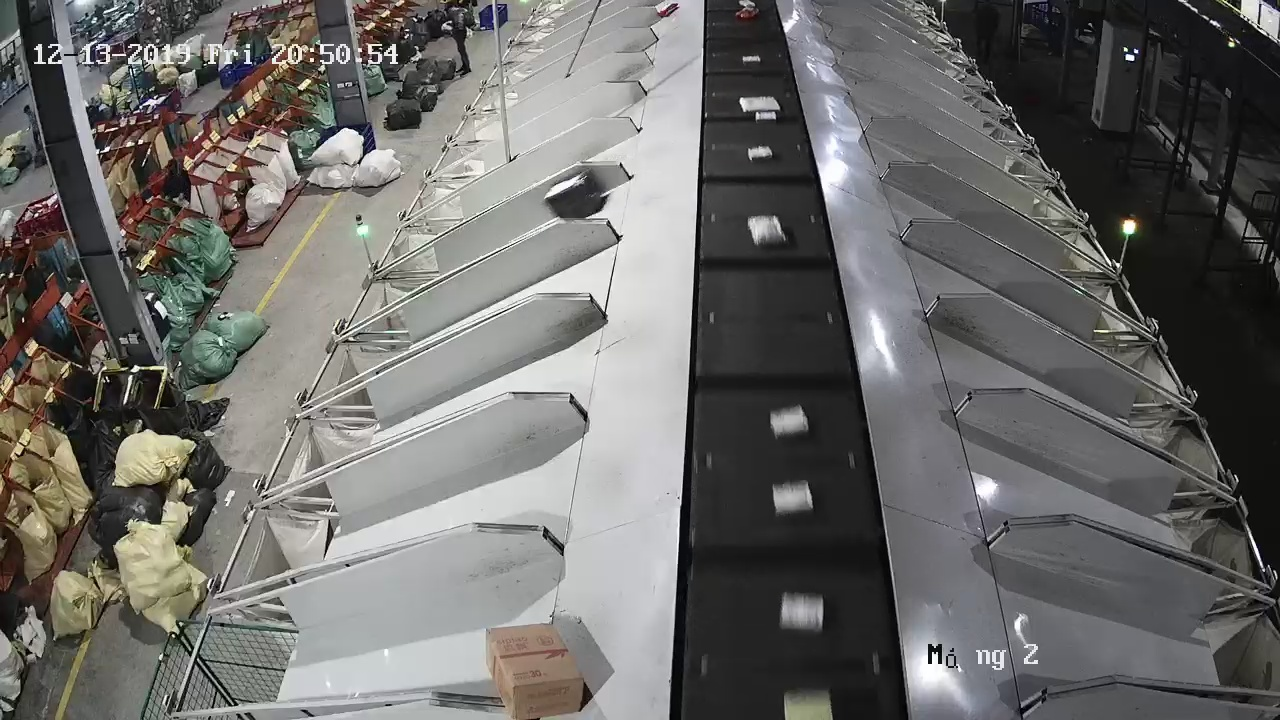parcel: (543, 168, 602, 218)
